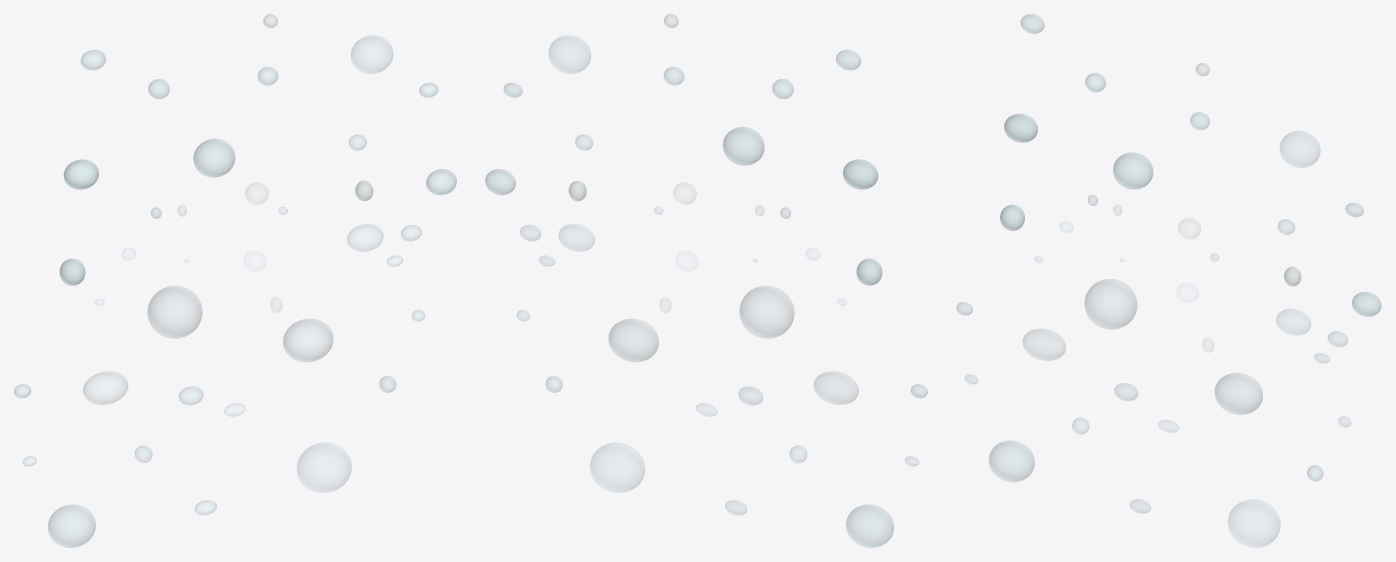
File: lavado.glb
3 views of the same model, side by side, from view 1: azimuth 30°, elevation 25°; view 2: azimuth 150°, elevation 25°; view 3: azimuth 330°, elevation 25° (orthographic). The views are drawn at different scales.
Visible parts, largest first — view 1: root_Material_72_0, root_Material_348_0, root_Material_116_0, root_Material_352_0, root_Material_310_0, root_Material_314_0, root_Material_152_0, root_Material_322_0, root_Material_330_0, root_Material_340_0, root_Material_318_0; view 2: root_Material_72_0, root_Material_348_0, root_Material_116_0, root_Material_352_0, root_Material_310_0, root_Material_314_0, root_Material_152_0, root_Material_322_0, root_Material_330_0, root_Material_340_0, root_Material_318_0; view 3: root_Material_72_0, root_Material_348_0, root_Material_116_0, root_Material_352_0, root_Material_310_0, root_Material_314_0, root_Material_152_0, root_Material_322_0, root_Material_330_0, root_Material_340_0, root_Material_318_0.
Boxes of the visible parts, left/top/right/bottom form: root_Material_72_0: left=147, top=286, right=202, bottom=338; root_Material_348_0: left=297, top=442, right=351, bottom=492; root_Material_116_0: left=283, top=319, right=333, bottom=361; root_Material_352_0: left=48, top=504, right=95, bottom=547; root_Material_310_0: left=193, top=138, right=235, bottom=177; root_Material_314_0: left=351, top=35, right=393, bottom=73; root_Material_152_0: left=83, top=371, right=127, bottom=404; root_Material_322_0: left=63, top=159, right=98, bottom=189; root_Material_330_0: left=347, top=224, right=383, bottom=251; root_Material_340_0: left=426, top=169, right=456, bottom=195; root_Material_318_0: left=59, top=258, right=85, bottom=285; root_Material_72_0: left=739, top=285, right=794, bottom=338; root_Material_348_0: left=590, top=442, right=644, bottom=492; root_Material_116_0: left=608, top=319, right=658, bottom=361; root_Material_352_0: left=846, top=504, right=893, bottom=547; root_Material_310_0: left=722, top=127, right=764, bottom=165; root_Material_314_0: left=548, top=35, right=590, bottom=73; root_Material_152_0: left=814, top=371, right=858, bottom=404; root_Material_322_0: left=843, top=159, right=878, bottom=189; root_Material_330_0: left=558, top=224, right=594, bottom=251; root_Material_340_0: left=485, top=169, right=515, bottom=195; root_Material_318_0: left=856, top=258, right=882, bottom=285; root_Material_72_0: left=1084, top=279, right=1136, bottom=329; root_Material_348_0: left=1228, top=499, right=1280, bottom=547; root_Material_116_0: left=1215, top=373, right=1262, bottom=414; root_Material_352_0: left=989, top=440, right=1034, bottom=481; root_Material_310_0: left=1113, top=152, right=1153, bottom=189; root_Material_314_0: left=1280, top=131, right=1320, bottom=167; root_Material_152_0: left=1023, top=328, right=1065, bottom=360; root_Material_322_0: left=1004, top=113, right=1037, bottom=142; root_Material_330_0: left=1276, top=309, right=1310, bottom=335; root_Material_340_0: left=1352, top=291, right=1381, bottom=316; root_Material_318_0: left=1000, top=204, right=1024, bottom=230.
Bounding box in the file's own units: 0.3154 × 0.3394 × 0.0384.
37 materials, 28 textured.
